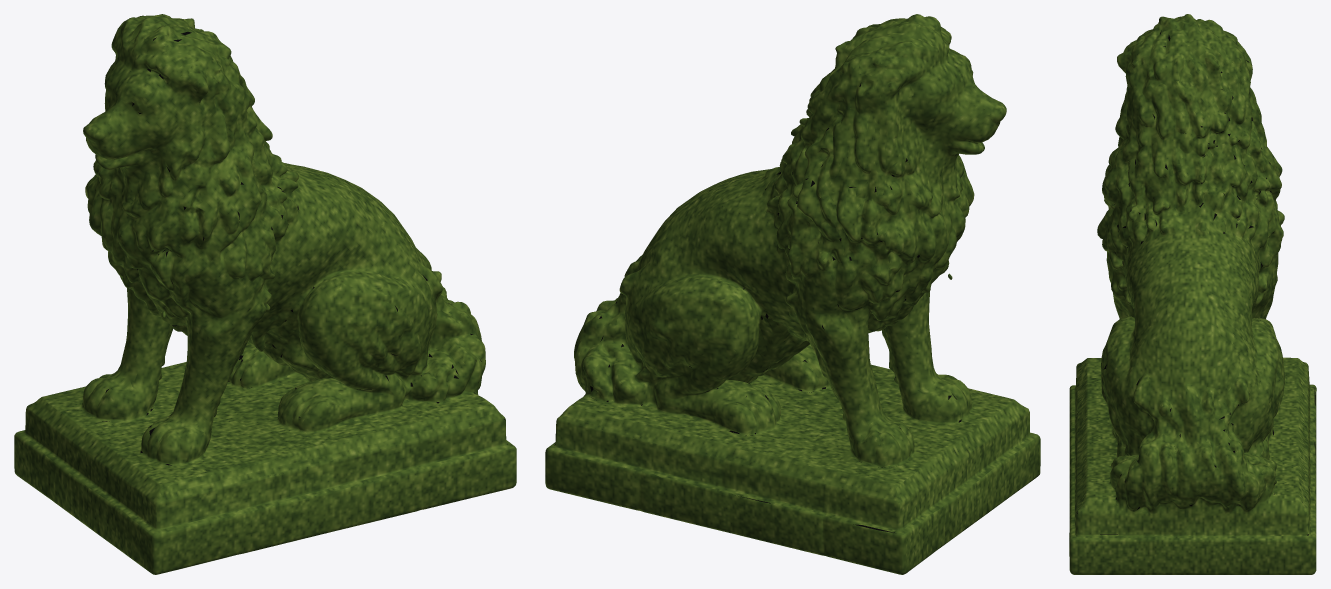
The model's file is dog-hedge.glb.
3 views of the same model, side by side, from view 1: azimuth 30°, elevation 25°; view 2: azimuth 150°, elevation 25°; view 3: azimuth 270°, elevation 25° (orthographic). The views are drawn at different scales.
Parts seen in each view (by area): view 1: dog - original generated mesh; view 2: dog - original generated mesh; view 3: dog - original generated mesh.
Part boxes in pixels (<box>): dog - original generated mesh: <box>14,14,516,574</box>; dog - original generated mesh: <box>545,14,1040,574</box>; dog - original generated mesh: <box>1069,14,1316,574</box>.
Bounding box in the file's own units: 2.24 × 2.7 × 1.4.
Materials: 1 (1 with a texture image).
